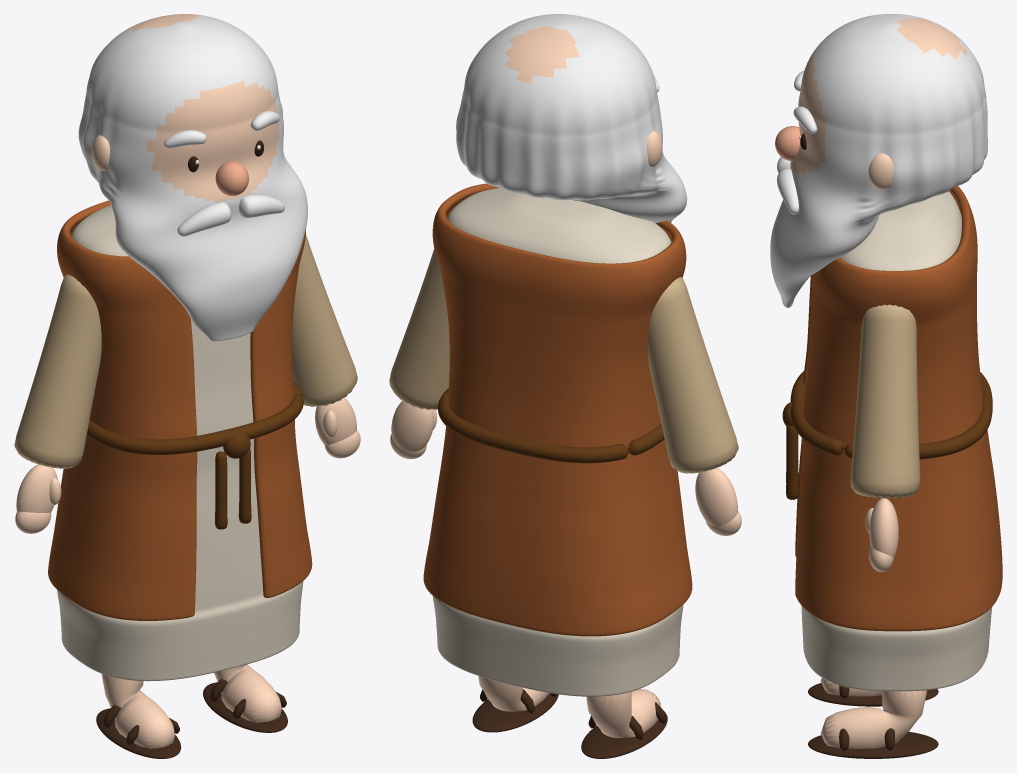
Rendered from noe.glb.
3 renders of one model, left to right at view 1: azimuth 30°, elevation 25°; view 2: azimuth 150°, elevation 25°; view 3: azimuth 270°, elevation 25°, orthographic.
Visible parts, largest first — view 1: Sobretunica, CabezaPelo, Tunica, MangaD, MangaI, Cuerda, PiernaPieD, PiernaPieI, ManoD, ManoI, SuelaI, SuelaD (+7 smaller); view 2: Sobretunica, CabezaPelo, Tunica, MangaD, MangaI, Cuerda, PiernaPieD, ManoD, ManoI, SuelaD, SuelaI, PiernaPieI; view 3: Sobretunica, CabezaPelo, Tunica, MangaI, PiernaPieI, Cuerda, SuelaI, ManoI, Cabo+0.03, SuelaD, OrejaI, Nariz (+4 smaller).
Boxes of the visible parts, bbox=[...] form: Sobretunica: bbox=[48, 200, 312, 620]; CabezaPelo: bbox=[78, 14, 307, 341]; Tunica: bbox=[57, 205, 303, 681]; MangaD: bbox=[14, 274, 101, 468]; MangaI: bbox=[292, 235, 357, 406]; Cuerda: bbox=[86, 381, 303, 454]; PiernaPieD: bbox=[101, 674, 174, 748]; PiernaPieI: bbox=[214, 664, 281, 722]; ManoD: bbox=[16, 464, 57, 512]; ManoI: bbox=[315, 397, 356, 445]; SuelaI: bbox=[203, 682, 287, 732]; SuelaD: bbox=[96, 708, 181, 758]; Sobretunica: bbox=[423, 183, 692, 636]; CabezaPelo: bbox=[456, 14, 687, 223]; Tunica: bbox=[432, 188, 683, 696]; MangaD: bbox=[647, 277, 738, 473]; MangaI: bbox=[389, 249, 449, 410]; Cuerda: bbox=[437, 388, 664, 463]; PiernaPieD: bbox=[586, 688, 660, 738]; ManoD: bbox=[695, 468, 737, 526]; ManoI: bbox=[391, 401, 433, 451]; SuelaD: bbox=[581, 712, 667, 758]; SuelaI: bbox=[472, 693, 558, 732]; PiernaPieI: bbox=[478, 676, 549, 711]; Sobretunica: bbox=[795, 186, 1002, 631]; CabezaPelo: bbox=[770, 14, 987, 307]; Tunica: bbox=[801, 191, 992, 691]; MangaI: bbox=[850, 304, 920, 498]; PiernaPieI: bbox=[820, 690, 926, 748]; Cuerda: bbox=[790, 371, 992, 459]; SuelaI: bbox=[808, 732, 938, 758]; ManoI: bbox=[869, 498, 898, 557]; Cabo+0.03: bbox=[786, 425, 798, 499]; SuelaD: bbox=[808, 683, 938, 706]; OrejaI: bbox=[868, 153, 893, 189]; Nariz: bbox=[775, 126, 800, 160].
Size of the model in its own units: 0.8033 by 1.56 by 0.4687.
